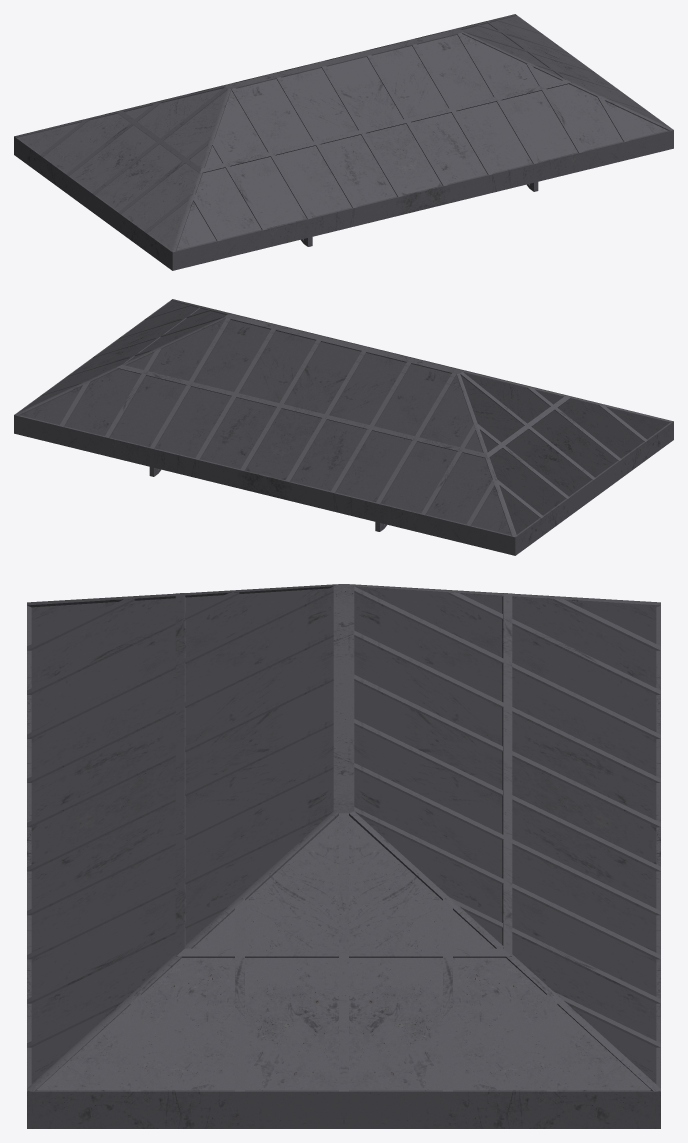
Rendered from Ratatouille - Skylight.gltf.
The picture shows the model from 3 angles, top to bottom: view 1: azimuth 30°, elevation 25°; view 2: azimuth 150°, elevation 25°; view 3: azimuth 270°, elevation 25°; orthographic projection. The views are drawn at different scales.
Visible parts, largest first — view 1: Window_Plane_01_low, Components, Window_Plane_02_low; view 2: Window_Plane_01_low, Components, Window_Plane_02_low; view 3: Window_Plane_01_low, Components, Window_Plane_02_low.
Part boxes in pixels (box(x1,y1,x2,y2)): Window_Plane_01_low: box(176, 34, 667, 249); Components: box(14, 14, 673, 270); Window_Plane_02_low: box(18, 16, 667, 249); Window_Plane_01_low: box(20, 319, 511, 534); Components: box(14, 299, 673, 555); Window_Plane_02_low: box(20, 301, 669, 534); Window_Plane_01_low: box(31, 588, 656, 1083); Components: box(27, 584, 660, 1128); Window_Plane_02_low: box(37, 816, 650, 1089).
Size of the model in its own units: 566 by 110 by 310.
2 materials, 2 textured.
